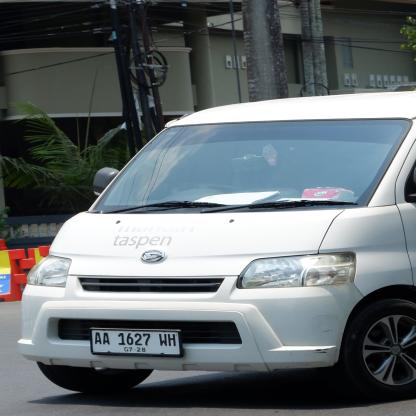Plat-Nomor: (89, 328, 184, 358)
